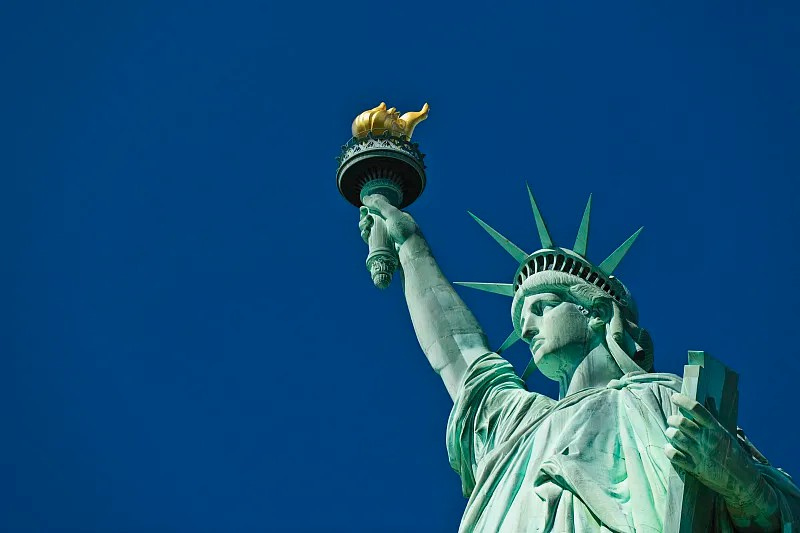SL: (336, 101, 800, 533)
